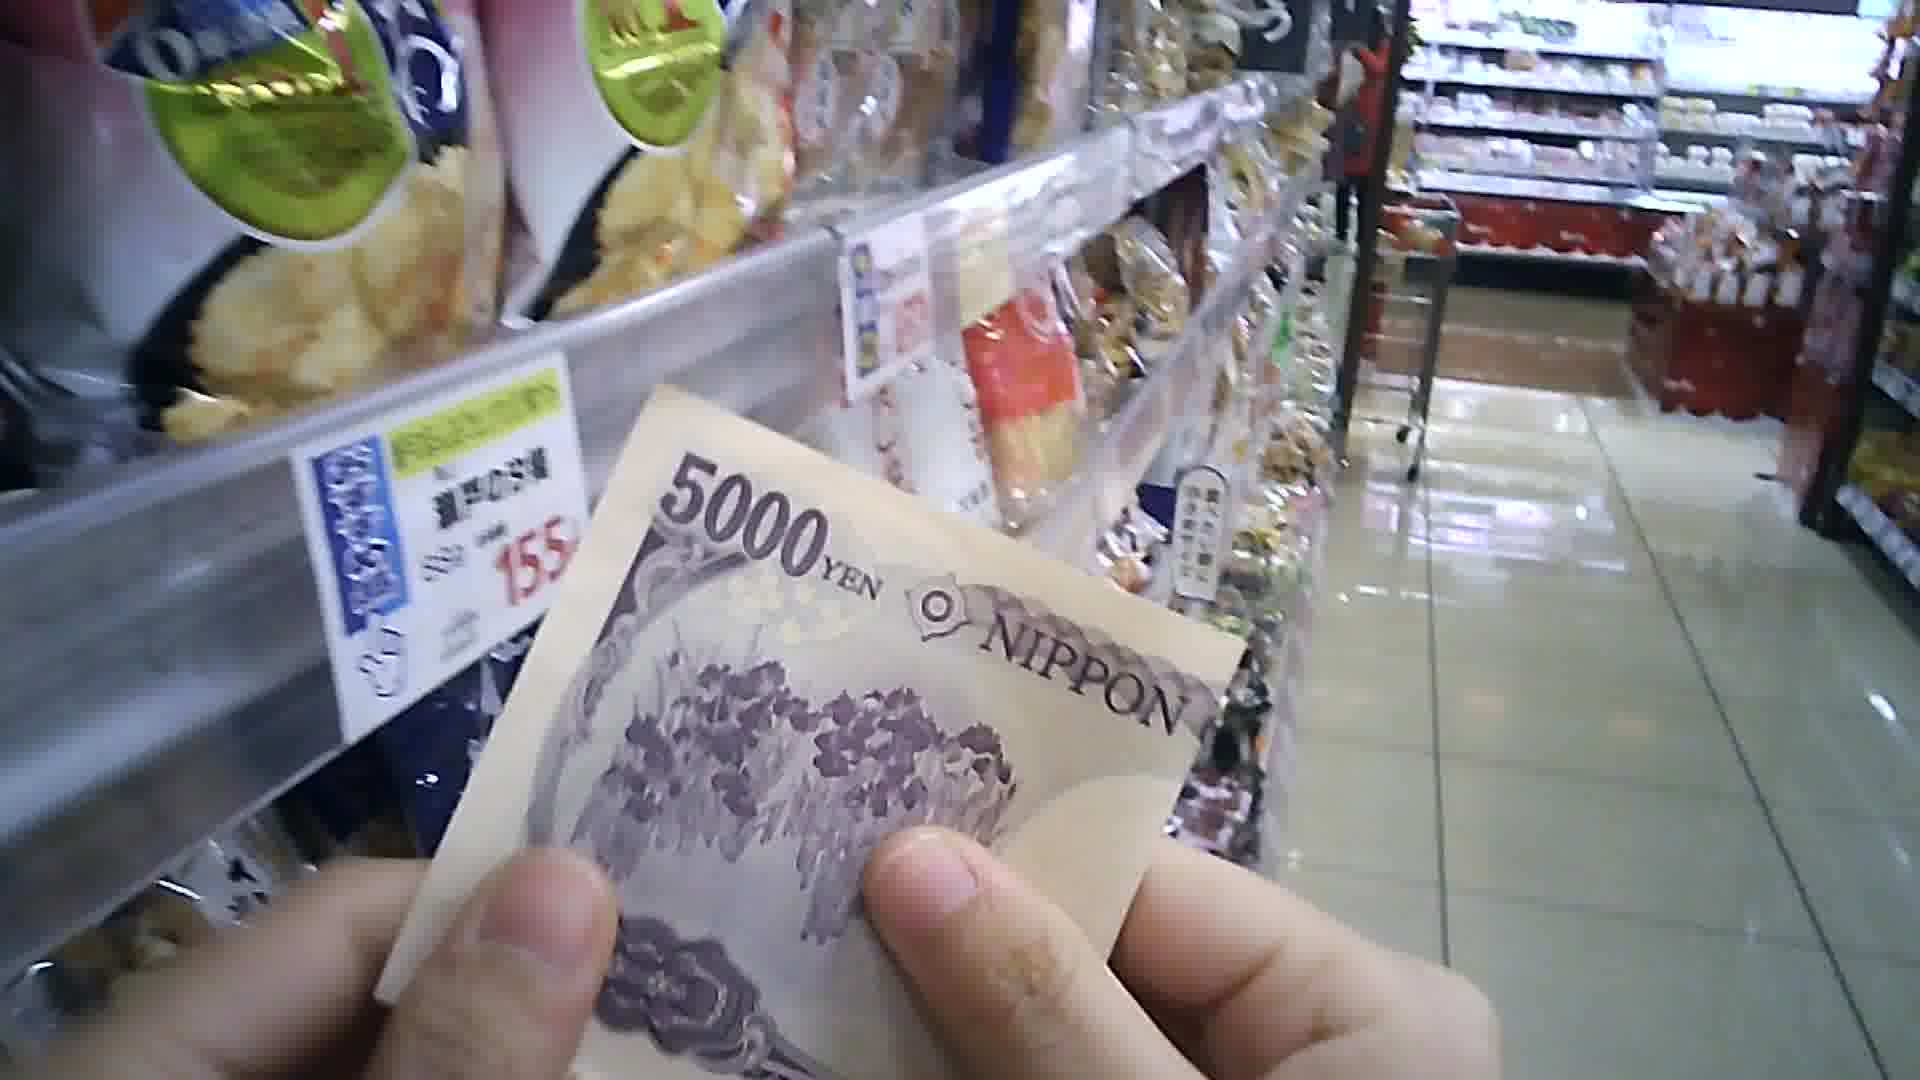5,000 Yen: (421, 388, 1237, 1079)
